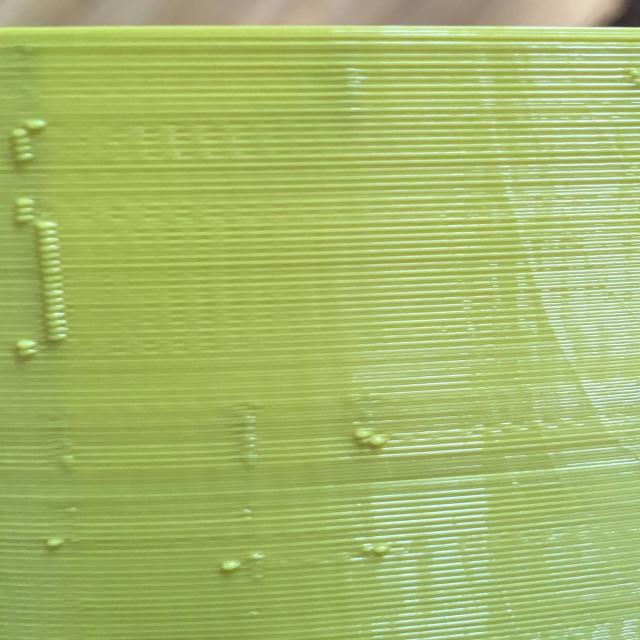blobs: (11, 187, 72, 370), (30, 430, 89, 577), (198, 404, 286, 484), (5, 105, 82, 172), (197, 530, 278, 590), (344, 416, 402, 459), (350, 532, 410, 568)
